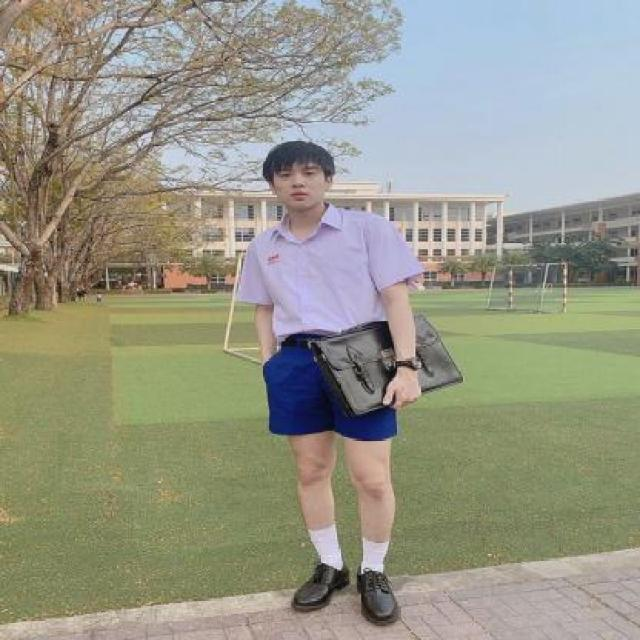sem_oculos: (264, 168, 330, 182)
